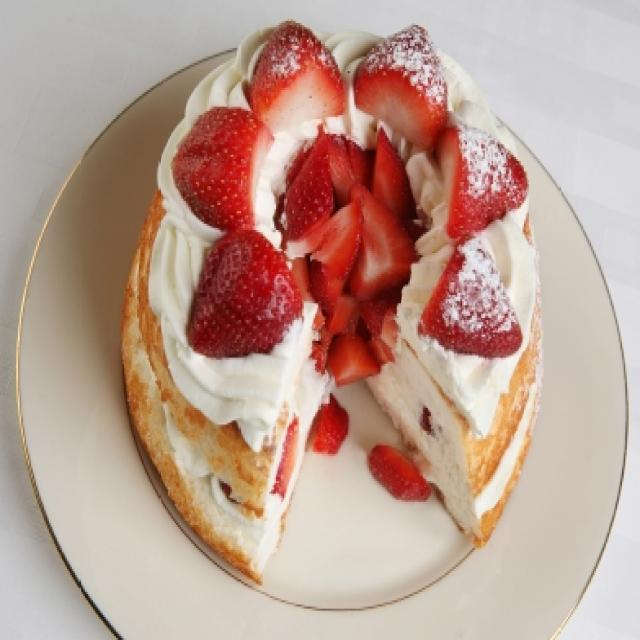蛋糕甜品: (31, 15, 614, 625)
